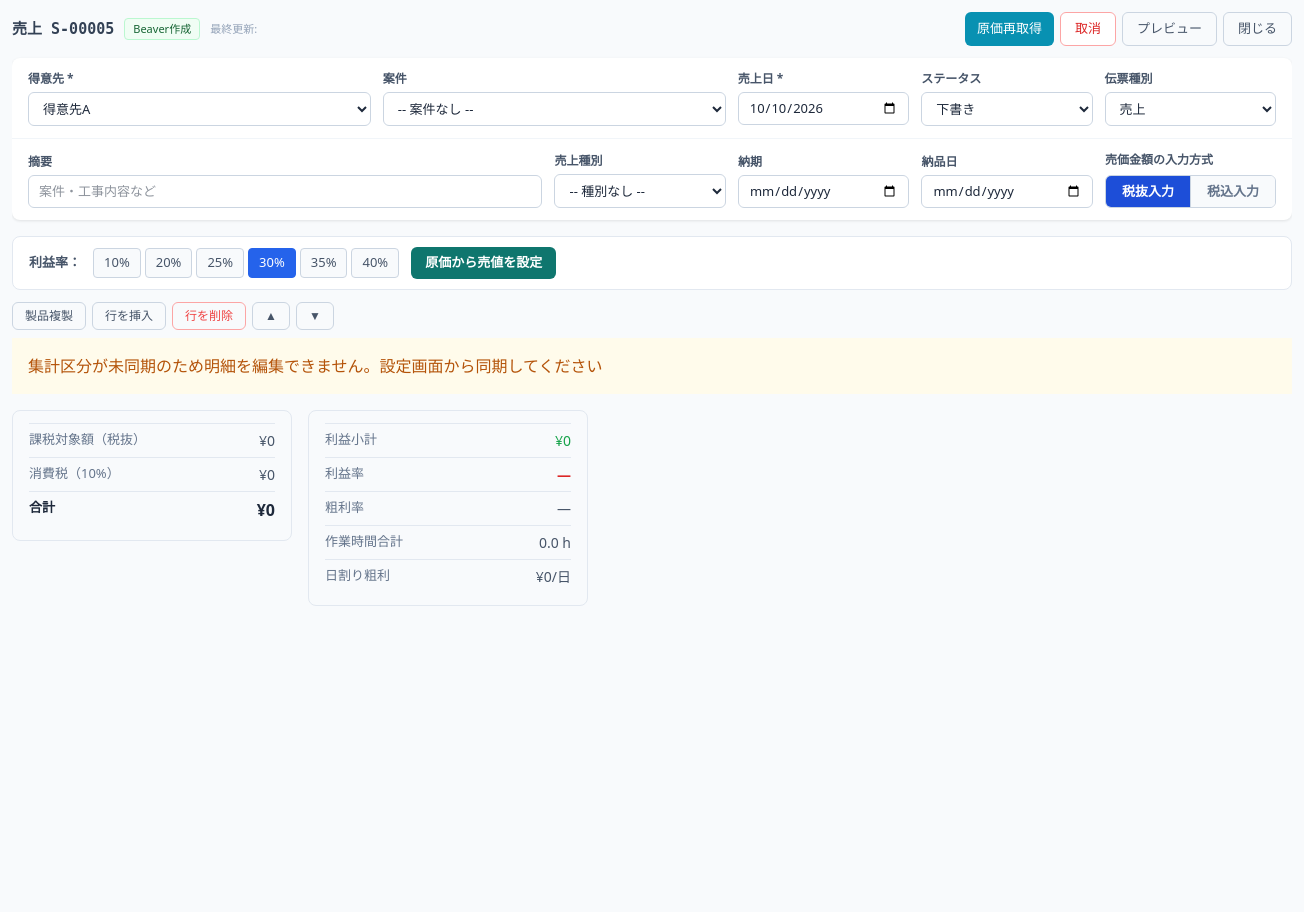
R-0164 伝票ヘッダーの自動保存と離脱警告 › 伝票日付を空にすると保存せず未保存状態を表示する
The image size is (1304, 912).
Clear the date field showing "2026-10-10" below "売上日 *" at (823, 108), box [738,92,909,125]
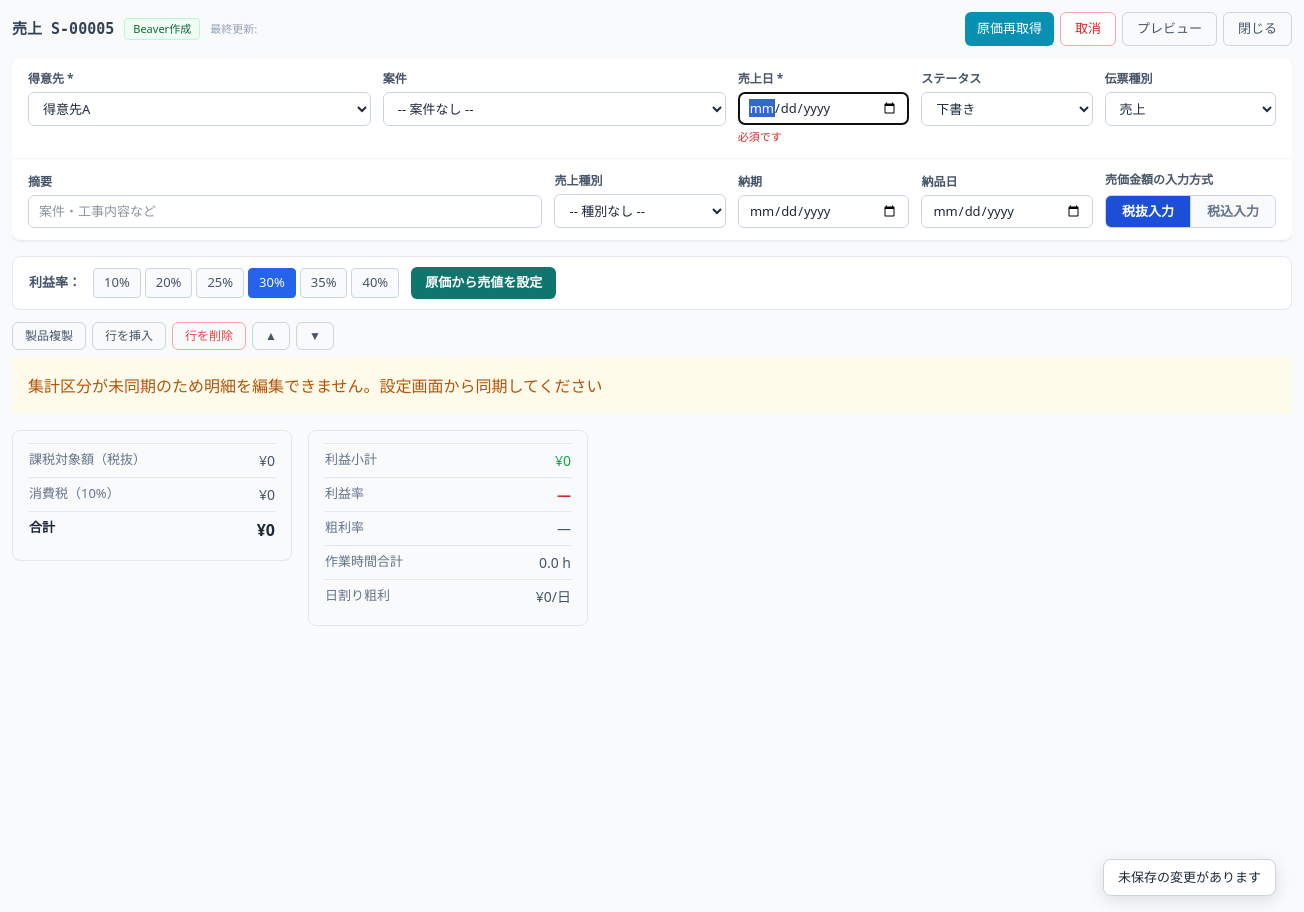
Expected: the text "未保存の変更があります" is shown, [1118,868,1261,887]
Expected: the text "必須です" is shown, [738,129,782,144]
